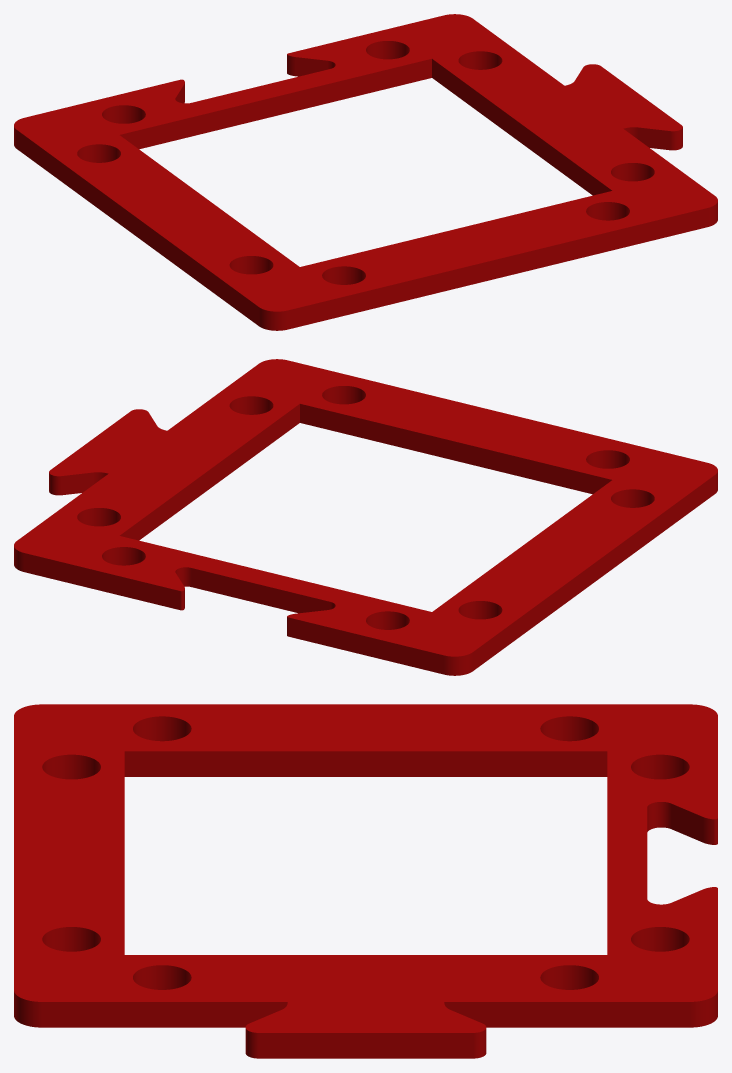
The model's file is V5_Interlinking Baseplate Pathed Angle V1.obj.
The picture shows the model from 3 angles, top to bottom: view 1: azimuth 30°, elevation 25°; view 2: azimuth 150°, elevation 25°; view 3: azimuth 270°, elevation 25°; orthographic projection. The views are drawn at different scales.
Parts seen in each view (by area): view 1: Solid1:43; view 2: Solid1:43; view 3: Solid1:43.
Part boxes in pixels (left/top/right/bottom): Solid1:43: left=14, top=14, right=717, bottom=330; Solid1:43: left=14, top=359, right=717, bottom=675; Solid1:43: left=14, top=704, right=717, bottom=1058.
Size of the model in its own units: 54.92 by 2 by 49.75.
